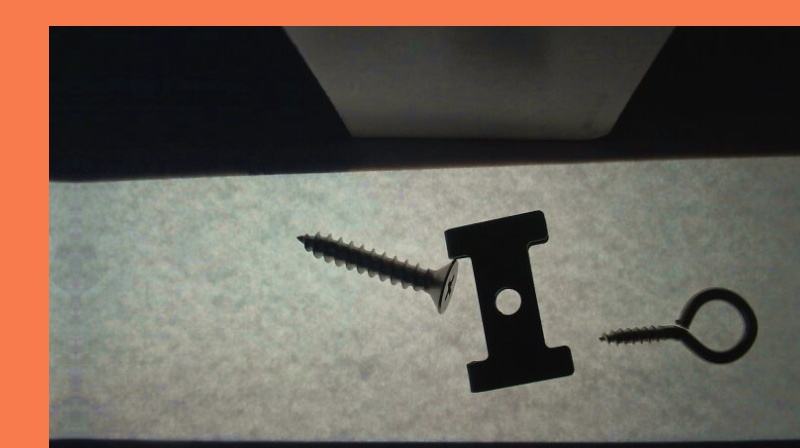O001: (592, 286, 759, 366)
O002: (442, 208, 574, 392)
S001: (297, 232, 459, 314)
